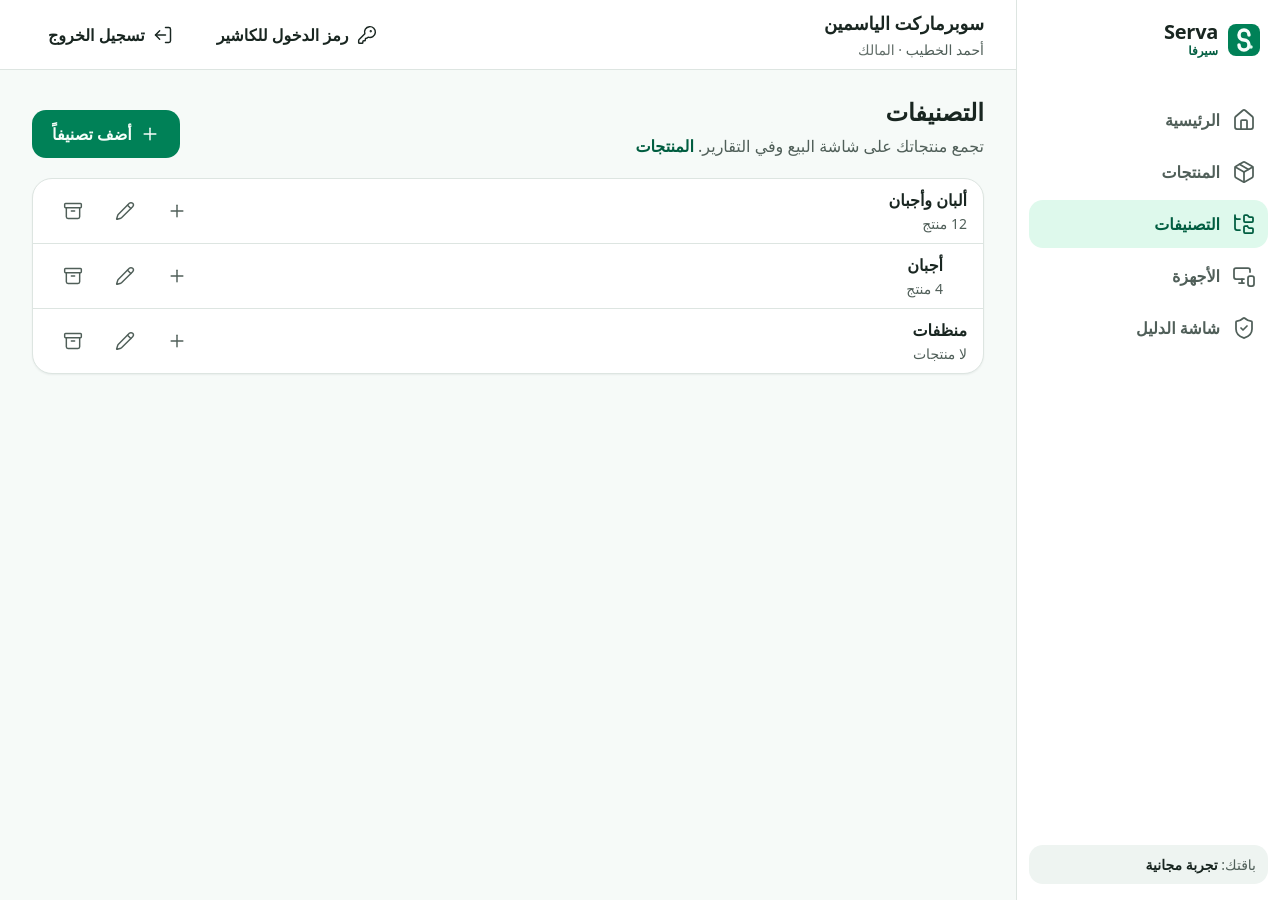
it: /categories › archives and restores
What coordinates should you click on to do the following:
click the button named "أرشف «منظفات»"
I would click on:
 (73, 341)
Its box is [49, 317, 97, 365].
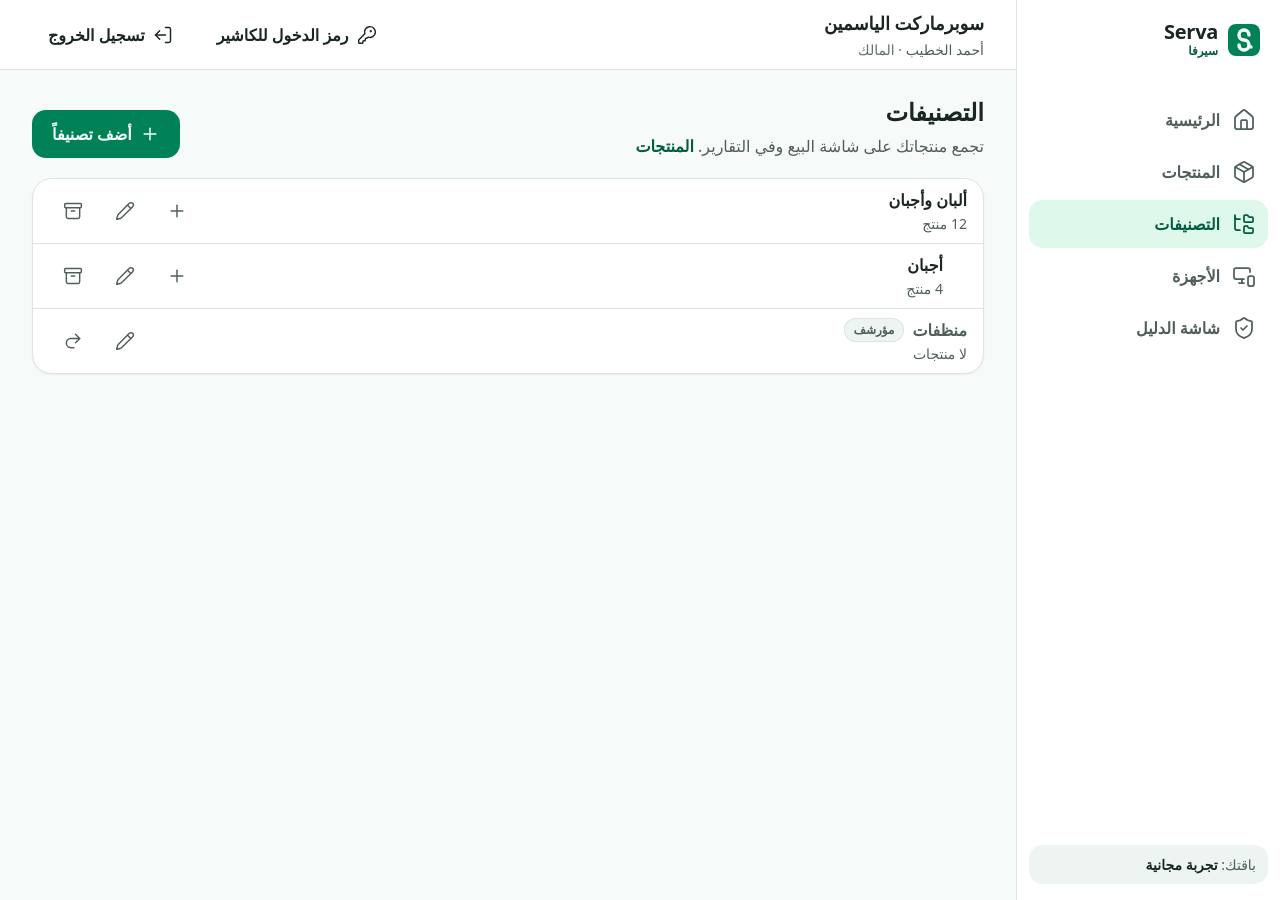
expect the text "مؤرشف" is shown: met, box [844, 318, 904, 342]
What coordinates should you click on to do the following:
click the button named "أعد «منظفات»"
I would click on:
 (73, 341)
Its box is [49, 317, 97, 365].
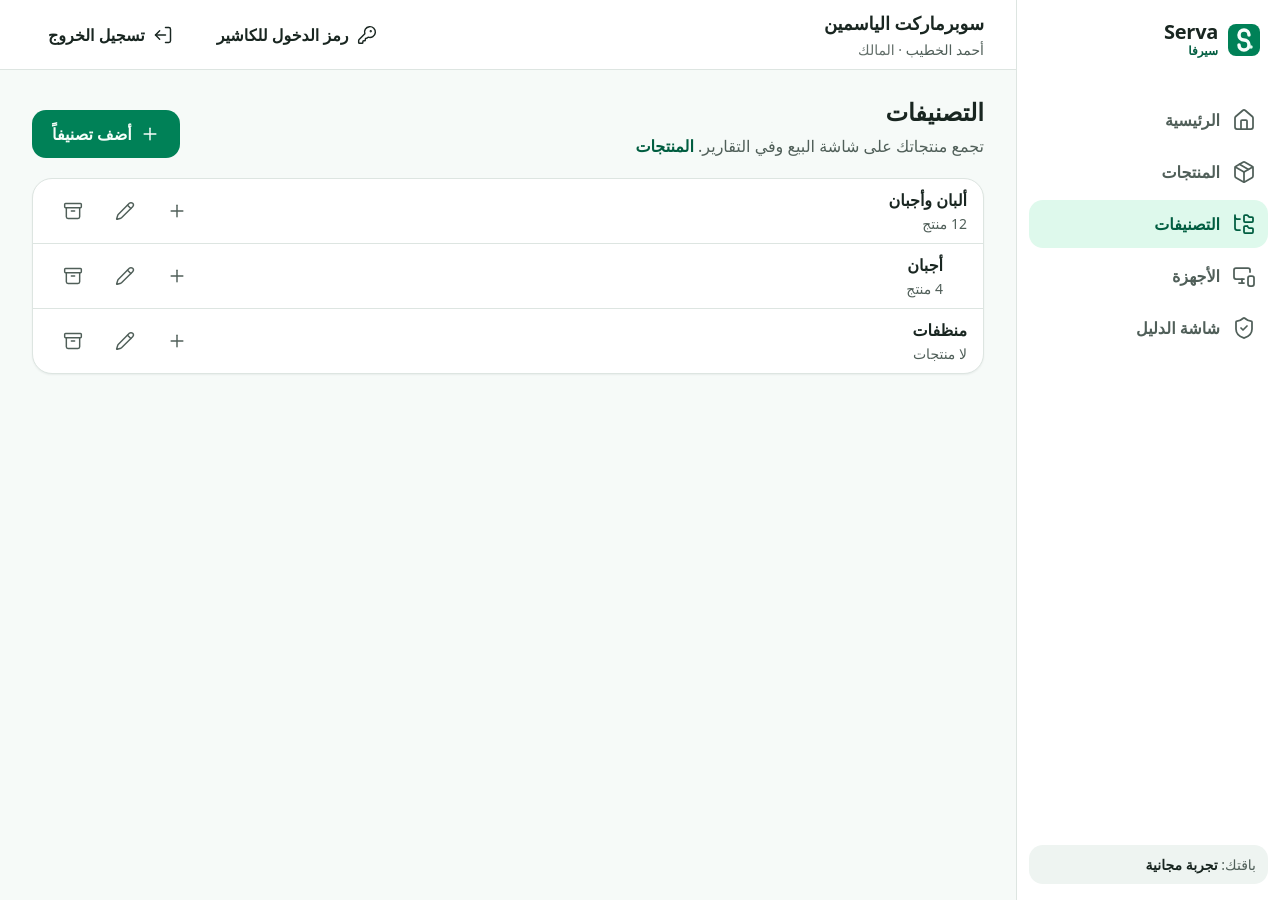
expect the text "مؤرشف" is gone: met
